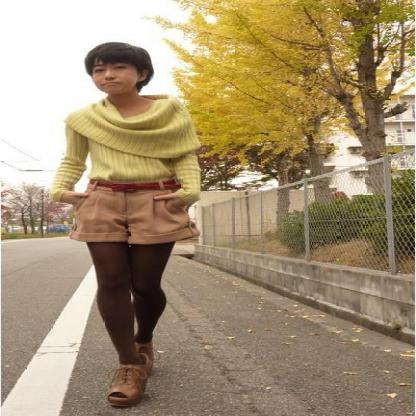jacket: (48, 92, 204, 196)
shoe: (100, 342, 153, 396)
shorts: (62, 175, 198, 244)
